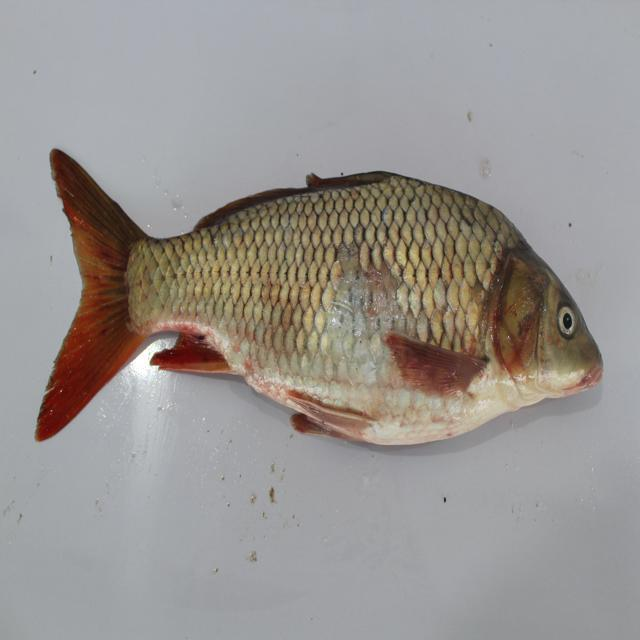CommonCarp: (30, 139, 639, 474)
